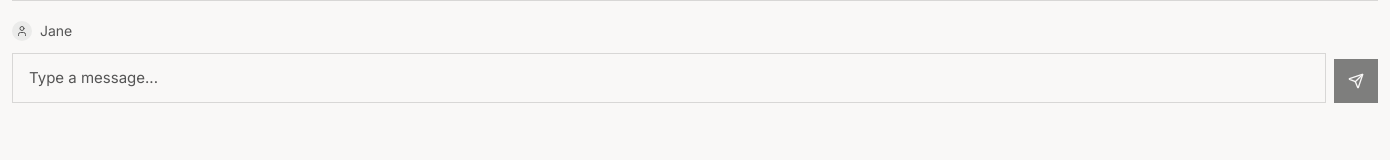
Scenario: room_comment › is not sent when the API refused it, and the page says why, where the comment was typed
This screenshot has width=1390, height=160.
Type "the parser hangs on empty input" into the text box with placeholder "Type a message..." at (669, 78), box [12,53,1326,103]
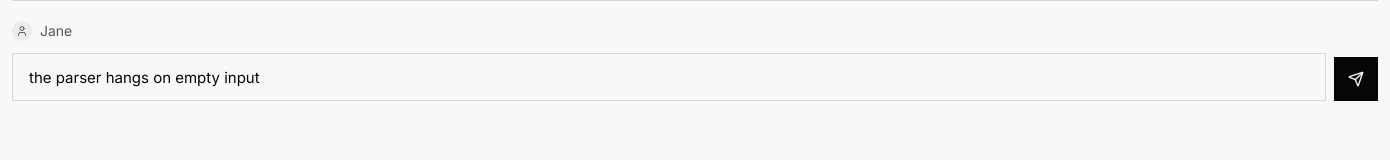
Submit the form with placeholder "Type a message...", box [12,53,1378,101]
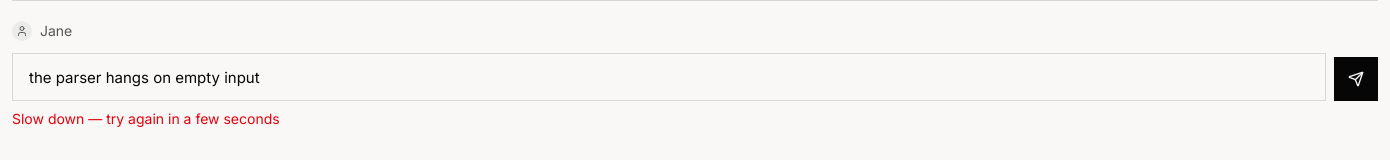
Result: the message reads "Slow down — try again in a few seconds" at [12,110,280,127]
